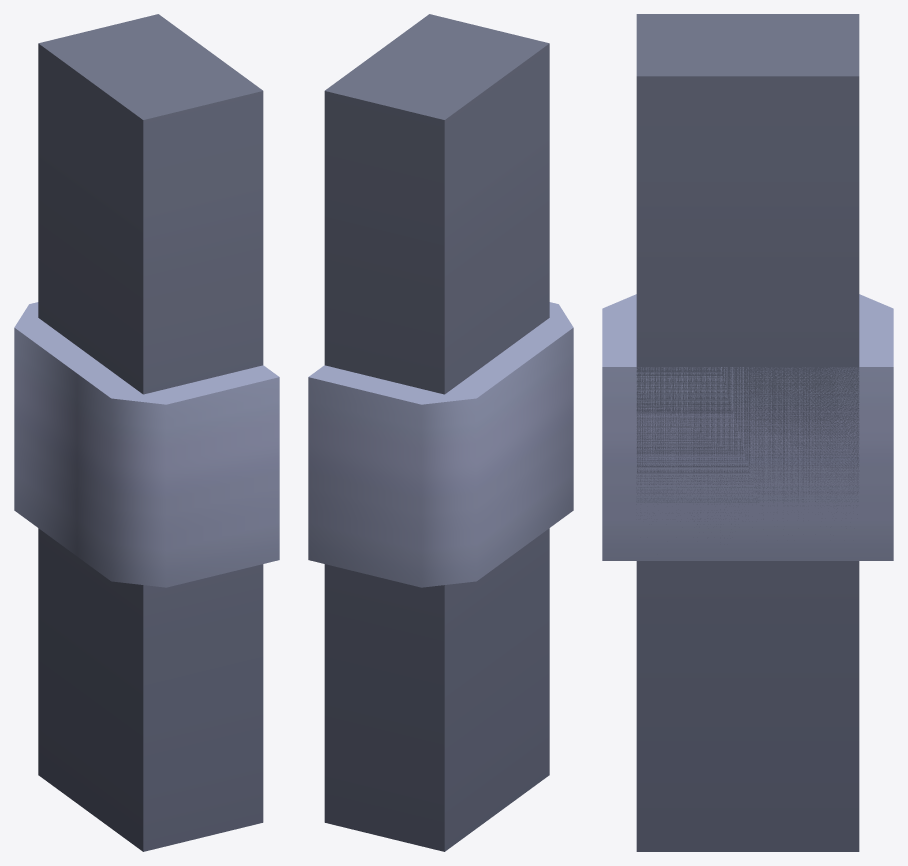
File: ot-chimney.glb
3 renders of one model, left to right at view 1: azimuth 30°, elevation 25°; view 2: azimuth 150°, elevation 25°; view 3: azimuth 270°, elevation 25°, orthographic. The views are drawn at different scales.
Parts seen in each view (by area): view 1: chimney; view 2: chimney; view 3: chimney.
Boxes of the visible parts, x1=… form: chimney: x1=14, y1=14, x2=279, y2=851; chimney: x1=308, y1=14, x2=573, y2=851; chimney: x1=602, y1=14, x2=893, y2=851.
Bounding box in the file's own units: 0.2119 × 1 × 0.34.
Materials: 1 (1 with a texture image).
